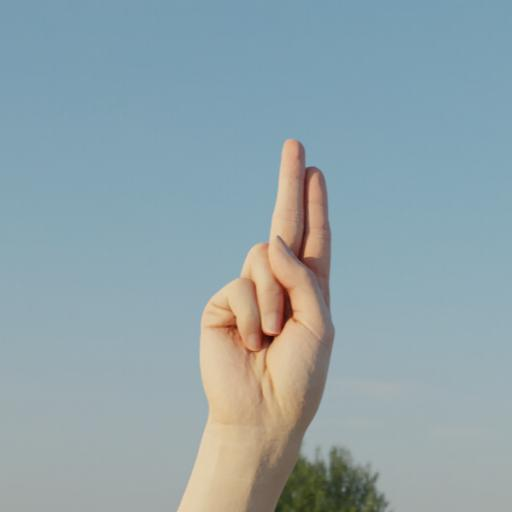U: (183, 134, 350, 490)
